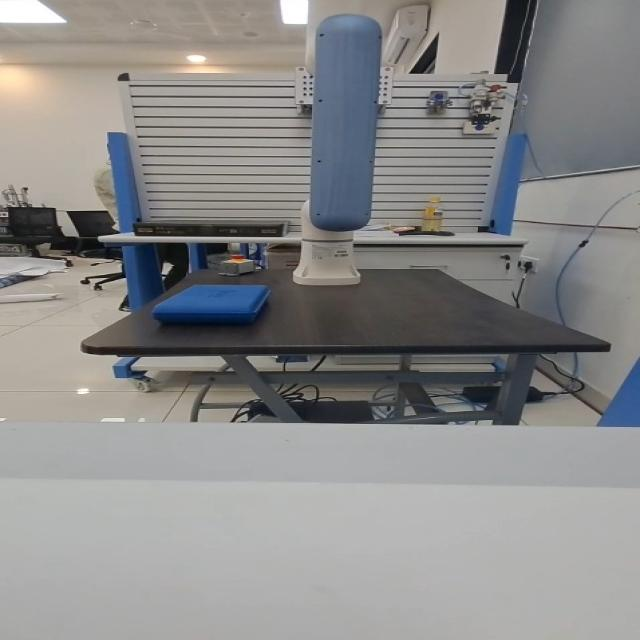top-surface: (164, 285, 263, 309)
